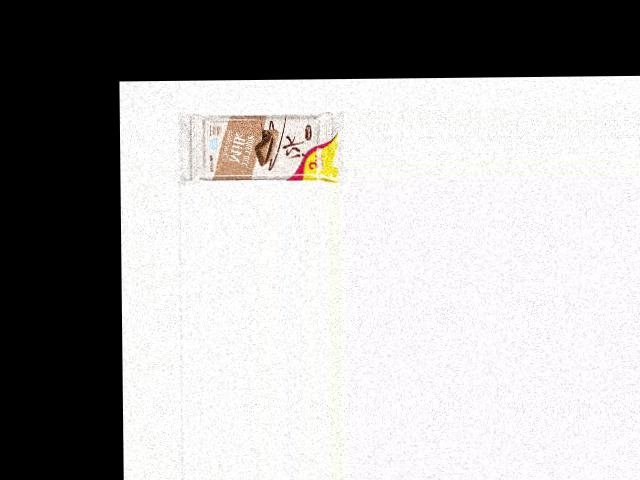chocolate: (193, 109, 344, 184)
